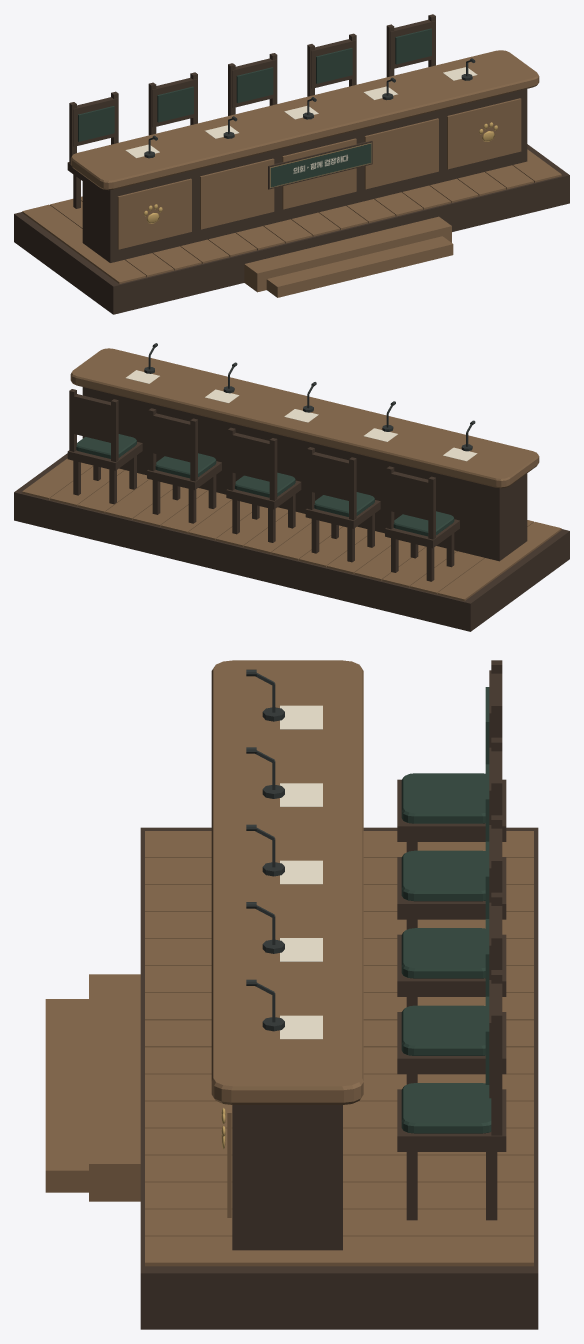
The model's file is 01_Council_Dais.fbx.
3 renders of one model, top to bottom at view 1: azimuth 30°, elevation 25°; view 2: azimuth 150°, elevation 25°; view 3: azimuth 270°, elevation 25°, orthographic. The views are drawn at different scales.
Parts seen in each view (by area): view 1: 01_Council_Dais__Structure, 01_Council_Dais; view 2: 01_Council_Dais__Structure, 01_Council_Dais; view 3: 01_Council_Dais__Structure, 01_Council_Dais.
Boxes of the visible parts, bbox=[...] form: 01_Council_Dais__Structure: bbox=[14, 50, 569, 314]; 01_Council_Dais: bbox=[67, 14, 435, 208]; 01_Council_Dais__Structure: bbox=[14, 343, 569, 631]; 01_Council_Dais: bbox=[67, 389, 459, 581]; 01_Council_Dais__Structure: bbox=[45, 660, 538, 1329]; 01_Council_Dais: bbox=[397, 660, 506, 1220].
Bounding box in the file's own units: 610 × 180 × 285.
1 material, 1 textured.
